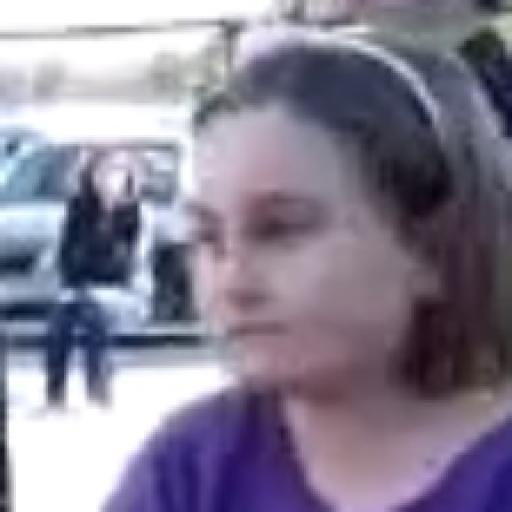Autism: (115, 36, 487, 468)
